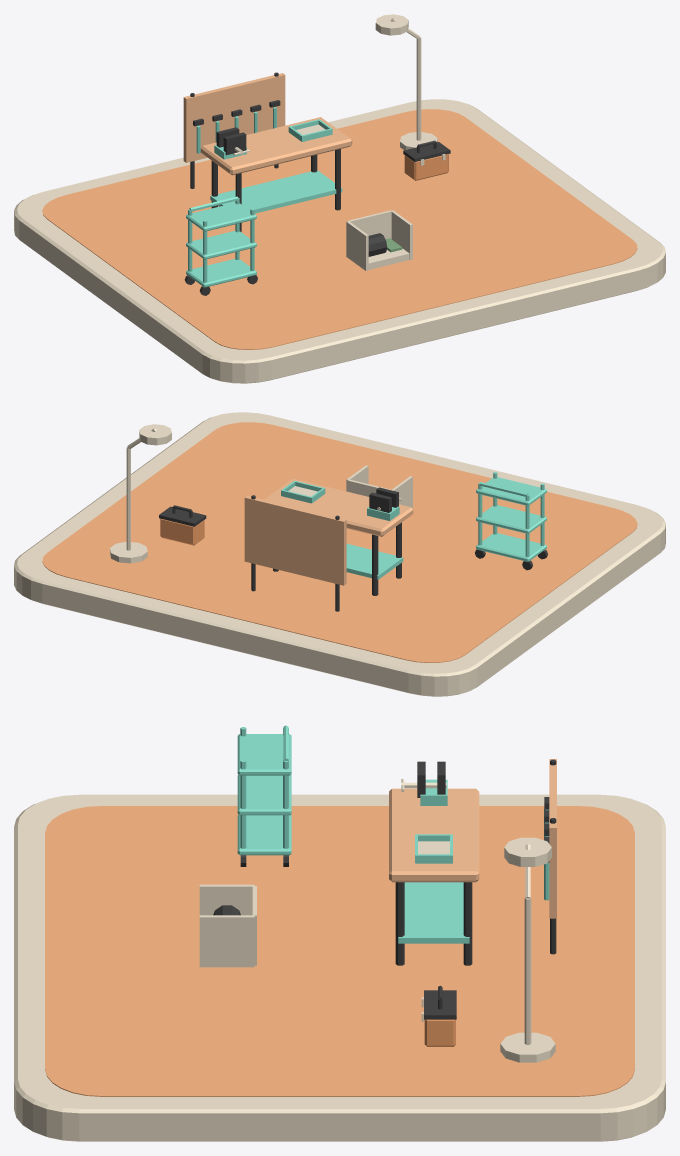
3 renders of one model, top to bottom at view 1: azimuth 30°, elevation 25°; view 2: azimuth 150°, elevation 25°; view 3: azimuth 270°, elevation 25°, orthographic. The views are drawn at different scales.
Visible parts, largest first — view 1: COM-02 Floor Surface, COM-01 Rounded Base Direct, Peg board, Worktop, Lower shelf, Tray.002, Tray.001, Tray, Side, Box, Back, Side.001 (+3 smaller); view 2: COM-02 Floor Surface, COM-01 Rounded Base Direct, Peg board, Worktop, Lower shelf, Tray, Tray.001, Tray.002, Box, Base.002, Lamp head, Lid (+1 smaller); view 3: COM-02 Floor Surface, COM-01 Rounded Base Direct, Worktop, Lower shelf, Side.001, Tray.002, Tray, Tray.001, Side, Base.002, Lamp head, Peg board (+5 smaller).
Boxes of the visible parts, left/top/right/bottom form: COM-02 Floor Surface: left=42, top=109, right=637, bottom=349; COM-01 Rounded Base Direct: left=14, top=99, right=665, bottom=383; Peg board: left=183, top=73, right=285, bottom=162; Worktop: left=200, top=117, right=352, bottom=175; Lower shelf: left=210, top=170, right=342, bottom=213; Tray.002: left=186, top=203, right=256, bottom=231; Tray.001: left=186, top=231, right=256, bottom=259; Tray: left=186, top=259, right=256, bottom=287; Side: left=346, top=221, right=368, bottom=270; Box: left=404, top=154, right=448, bottom=180; Back: left=348, top=210, right=391, bottom=239; Side.001: left=391, top=210, right=412, bottom=260; COM-02 Floor Surface: left=42, top=422, right=637, bottom=662; COM-01 Rounded Base Direct: left=14, top=412, right=665, bottom=696; Peg board: left=244, top=495, right=346, bottom=585; Worktop: left=264, top=478, right=413, bottom=536; Lower shelf: left=346, top=543, right=403, bottom=579; Tray: left=476, top=533, right=546, bottom=561; Tray.001: left=476, top=505, right=546, bottom=533; Tray.002: left=476, top=477, right=546, bottom=505; Box: left=160, top=518, right=204, bottom=545; Base.002: left=110, top=541, right=147, bottom=563; Lamp head: left=139, top=424, right=171, bottom=445; Lid: left=159, top=506, right=206, bottom=526; COM-02 Floor Surface: left=45, top=806, right=634, bottom=1096; COM-01 Rounded Base Direct: left=14, top=794, right=665, bottom=1141; Worktop: left=389, top=788, right=479, bottom=882; Lower shelf: left=398, top=882, right=469, bottom=943; Side.001: left=199, top=915, right=254, bottom=967; Tray.002: left=237, top=734, right=291, bottom=775; Tray: left=237, top=814, right=291, bottom=855; Tray.001: left=237, top=775, right=291, bottom=815; Side: left=199, top=884, right=254, bottom=915; Base.002: left=500, top=1032, right=555, bottom=1062; Lamp head: left=504, top=837, right=551, bottom=866; Peg board: left=549, top=759, right=556, bottom=918.
Bounding box in the file's own units: 6 × 1.96 × 5.2.
1 material, 1 textured.
